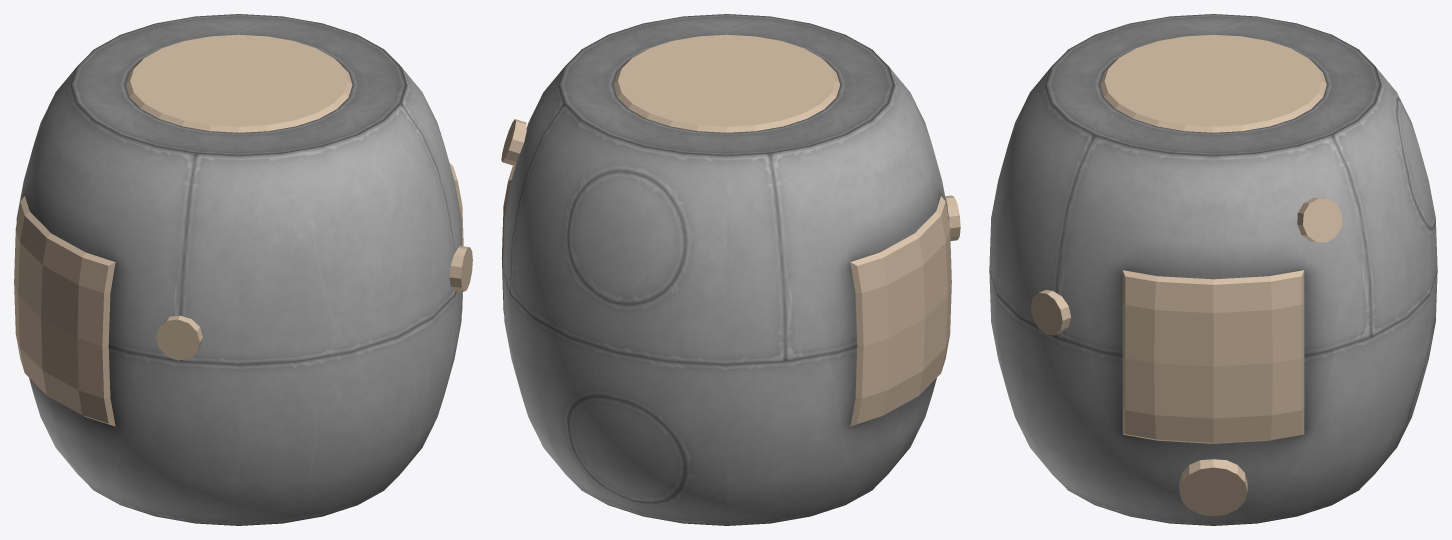
File: hamal_orbital_module_s1_1_interior.obj
The picture shows the model from 3 angles, left to right: view 1: azimuth 30°, elevation 25°; view 2: azimuth 150°, elevation 25°; view 3: azimuth 270°, elevation 25°; orthographic projection.
Parts seen in each view (by area): view 1: i1, im1; view 2: i1, im1; view 3: i1, im1.
Boxes of the visible parts, x1,y1,x2,y2 form: i1: [16, 14, 462, 525]; im1: [14, 34, 472, 426]; i1: [502, 14, 949, 525]; im1: [501, 34, 960, 426]; i1: [989, 14, 1437, 525]; im1: [1030, 34, 1342, 516].
Bounding box in the file's own units: 1.26 × 1.15 × 1.23.
Materials: 2 (1 with a texture image).
